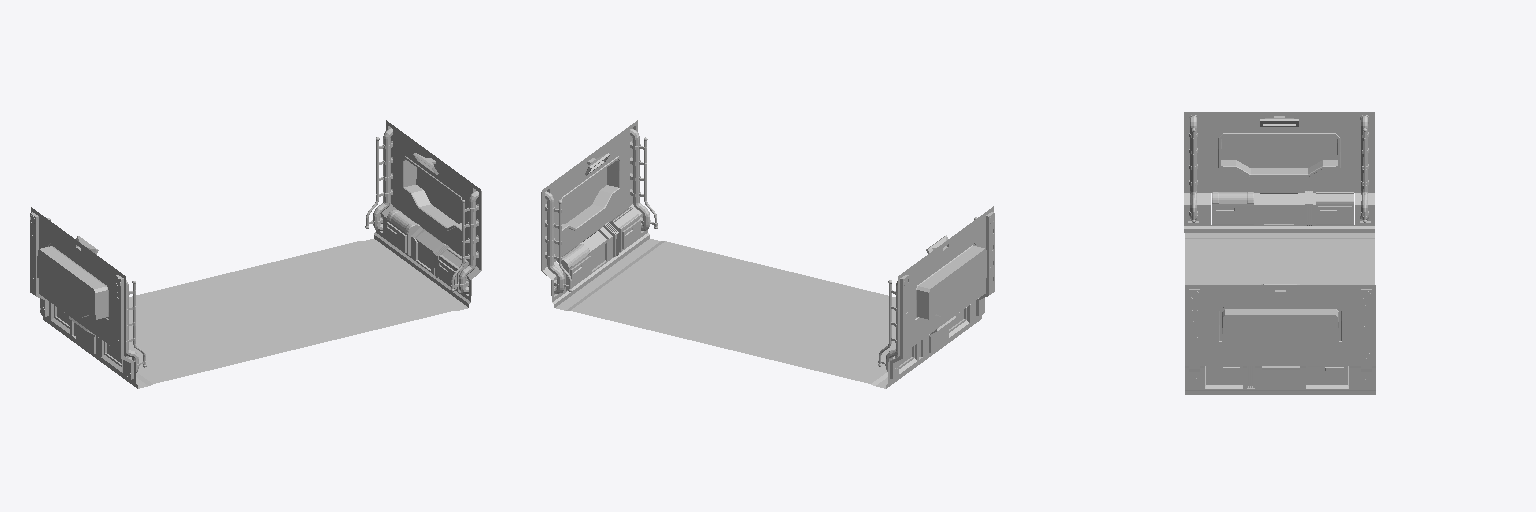
The picture shows the model from 3 angles: view 1: azimuth 30°, elevation 25°; view 2: azimuth 150°, elevation 25°; view 3: azimuth 270°, elevation 25°; orthographic projection.
Visible parts, largest first — view 1: Segment_9 Components Full_Templates Templates; view 2: Segment_9 Components Full_Templates Templates; view 3: Segment_9 Components Full_Templates Templates.
Boxes of the visible parts, x1=… form: Segment_9 Components Full_Templates Templates: x1=30, y1=120, x2=481, y2=388; Segment_9 Components Full_Templates Templates: x1=541, y1=120, x2=994, y2=388; Segment_9 Components Full_Templates Templates: x1=1184, y1=112, x2=1375, y2=394.
Size of the model in its own units: 41.22 by 12 by 18.1.